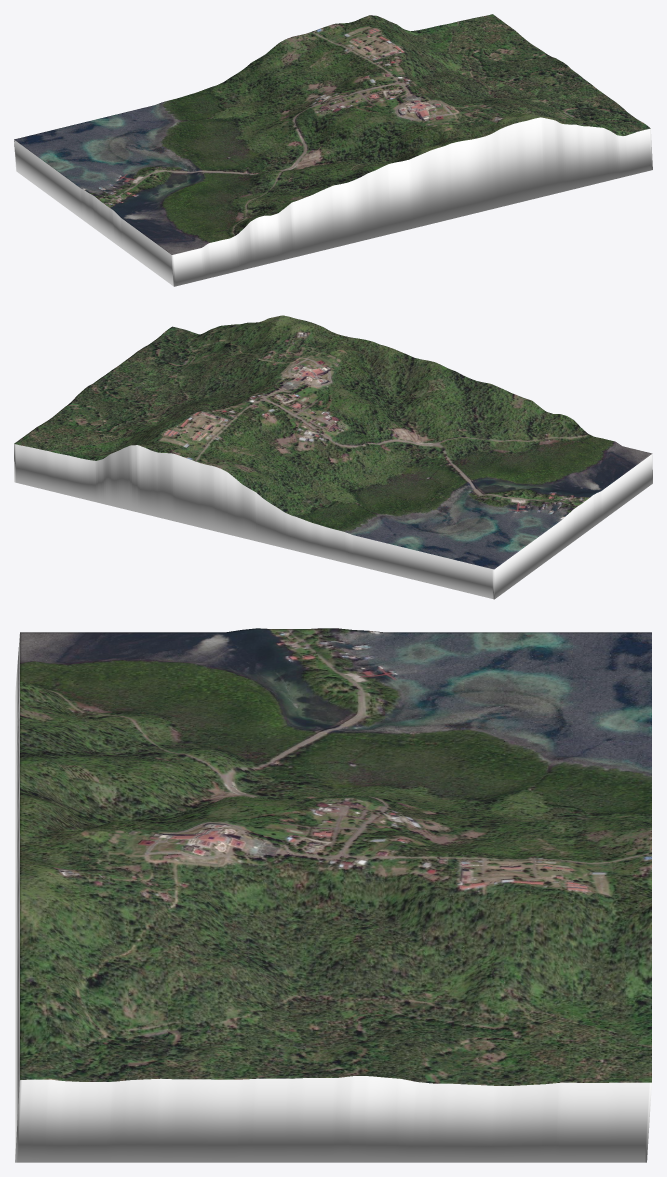
The model's file is kantor-gub.glb.
3 views of the same model, one above another, from view 1: azimuth 30°, elevation 25°; view 2: azimuth 150°, elevation 25°; view 3: azimuth 270°, elevation 25° (orthographic). The views are drawn at different scales.
Parts seen in each view (by area): view 1: EXPORT_ESRI_AERIAL_WM; view 2: EXPORT_ESRI_AERIAL_WM; view 3: EXPORT_ESRI_AERIAL_WM.
Boxes of the visible parts, bbox=[...] form: EXPORT_ESRI_AERIAL_WM: bbox=[14, 14, 652, 286]; EXPORT_ESRI_AERIAL_WM: bbox=[14, 315, 652, 599]; EXPORT_ESRI_AERIAL_WM: bbox=[15, 628, 651, 1162].
Bounding box in the file's own units: 2144 × 338 × 1233.
2 materials, 1 textured.
